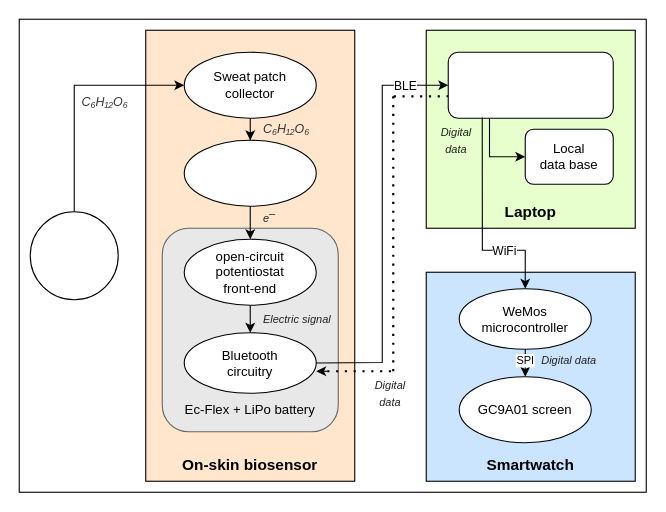
This 666x512 diagram has some shape labels left out. The shapes that lost their labels are listed below. From the top down, each one's centre as x and y in pixels, then its label:
the point at 530,84: Biosensor-to-smartwatch communication project
the point at 249,172: Glucose Biosensor
the point at 73,255: Sweat
